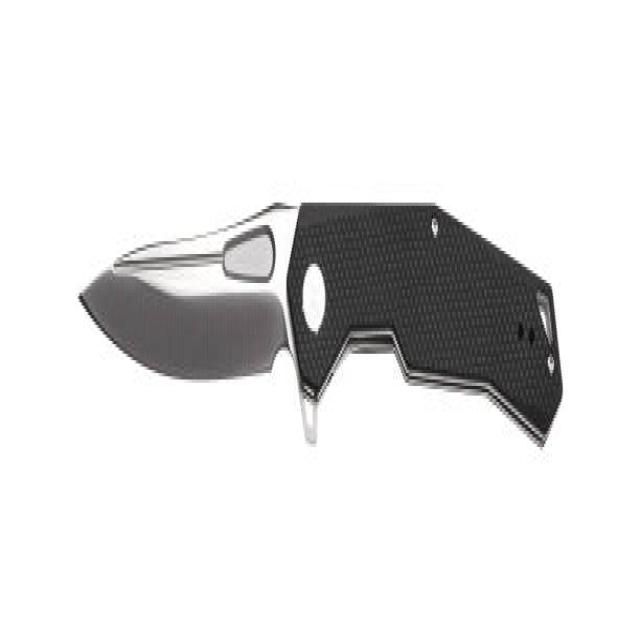knife: (75, 180, 566, 474)
